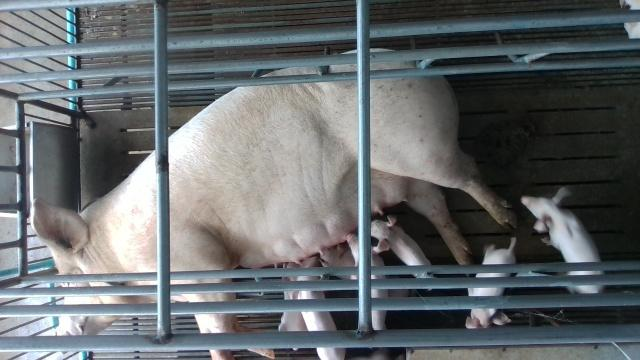piglet: (523, 186, 605, 294), (287, 260, 347, 360), (461, 235, 518, 330), (343, 231, 392, 332), (368, 214, 435, 278)
sow-sleep-lactate: (32, 48, 517, 360)
